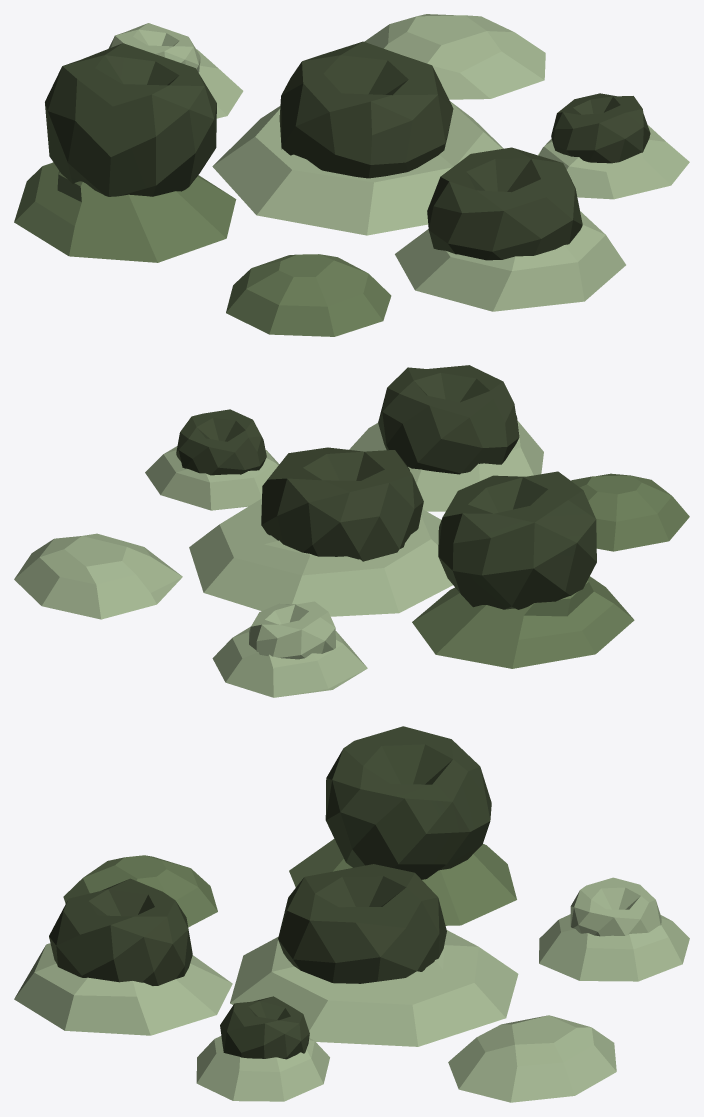
The model's file is EA_Swamp_Fruit_01a.glb.
3 renders of one model, top to bottom at view 1: azimuth 30°, elevation 25°; view 2: azimuth 150°, elevation 25°; view 3: azimuth 270°, elevation 25°, orthographic. The views are drawn at different scales.
Visible parts, largest first — view 1: EA_Swamp_Fruit_01a; view 2: EA_Swamp_Fruit_01a; view 3: EA_Swamp_Fruit_01a.
Part boxes in pixels (bbox=[...]): EA_Swamp_Fruit_01a: bbox=[14, 14, 689, 336]; EA_Swamp_Fruit_01a: bbox=[14, 365, 689, 697]; EA_Swamp_Fruit_01a: bbox=[14, 726, 689, 1102].
Size of the model in its own units: 1.06 by 0.2566 by 1.15.
Materials: 1 (1 with a texture image).
